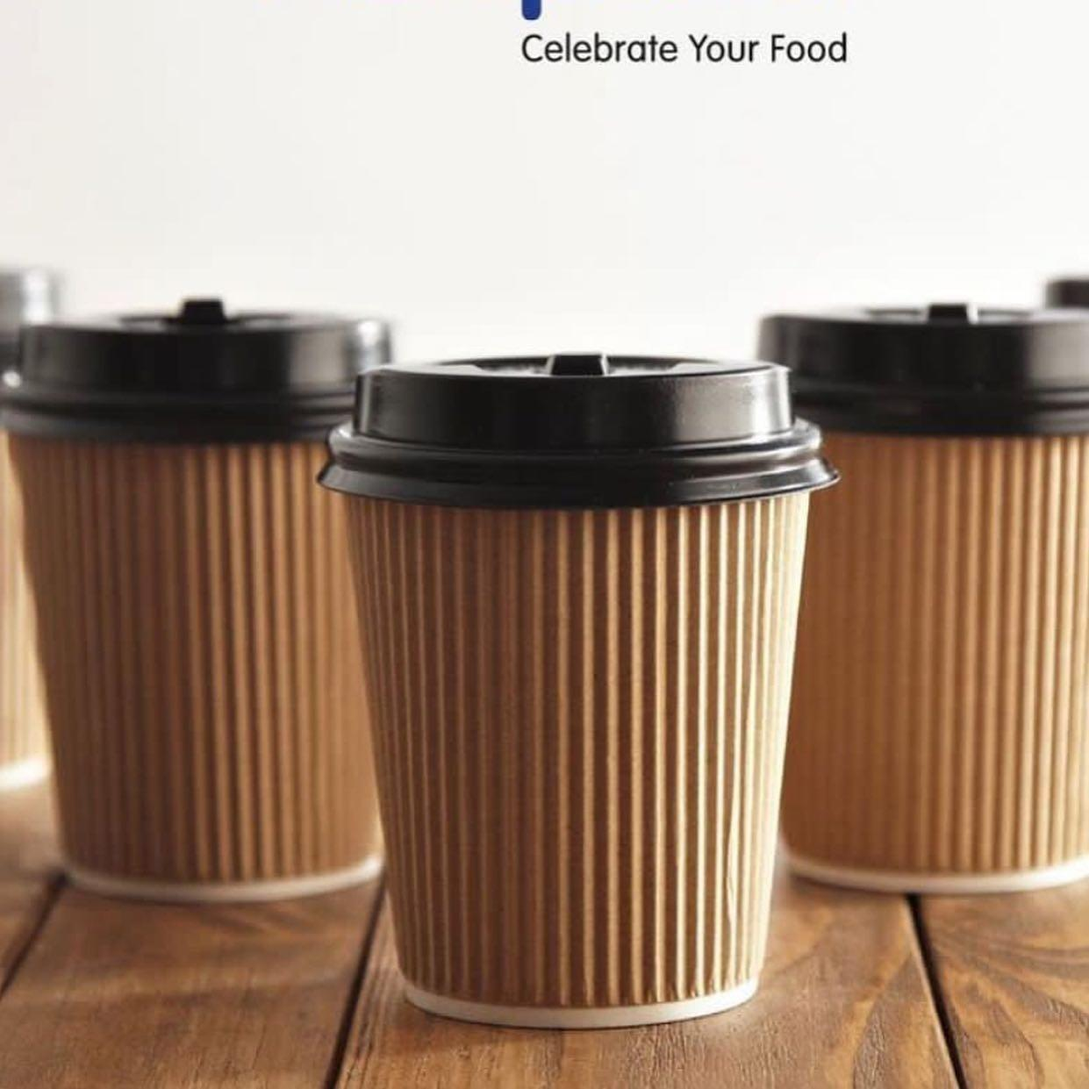cup-disposable: (317, 332, 827, 1050), (5, 282, 398, 913), (753, 282, 1089, 896)
